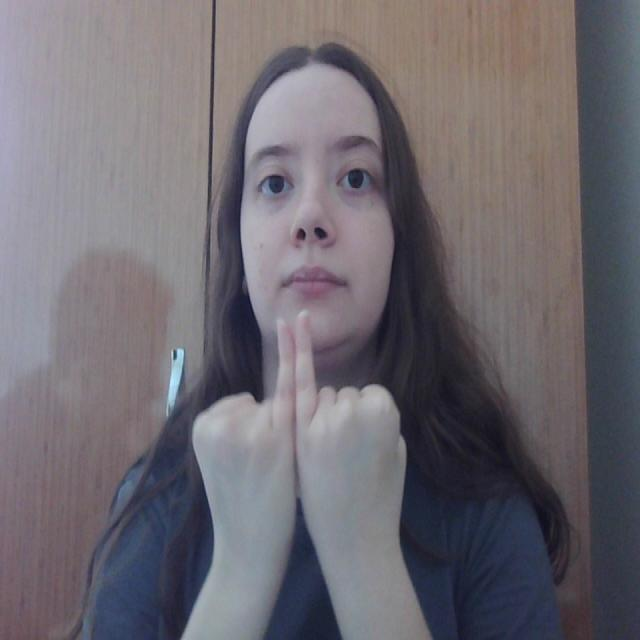Kardes: (187, 305, 413, 573)
